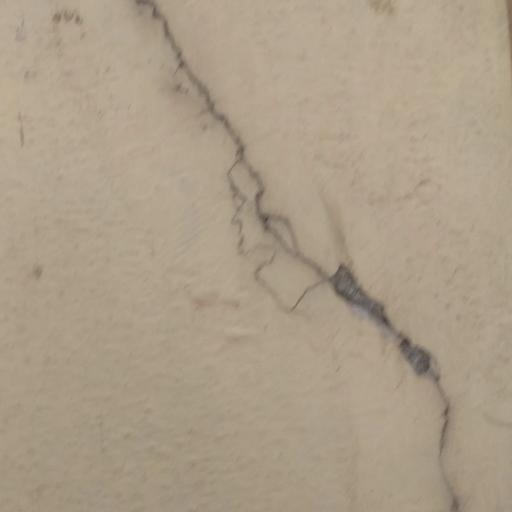major_crack: (151, 0, 471, 512)
